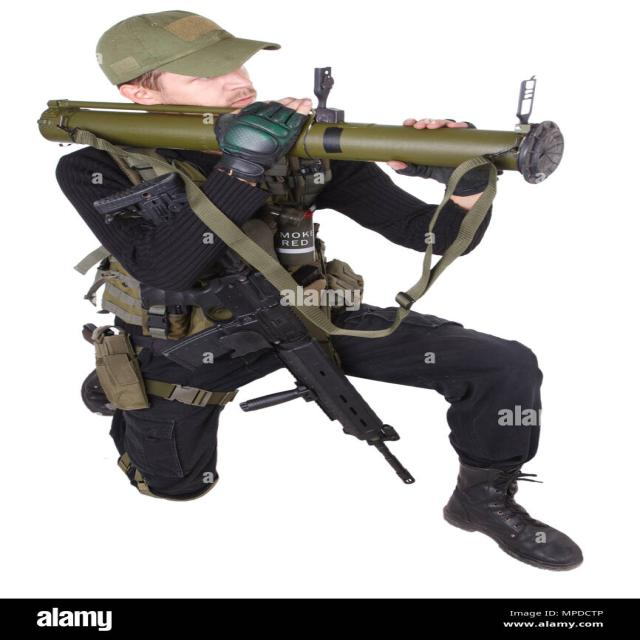bazooka: (42, 79, 573, 192)
